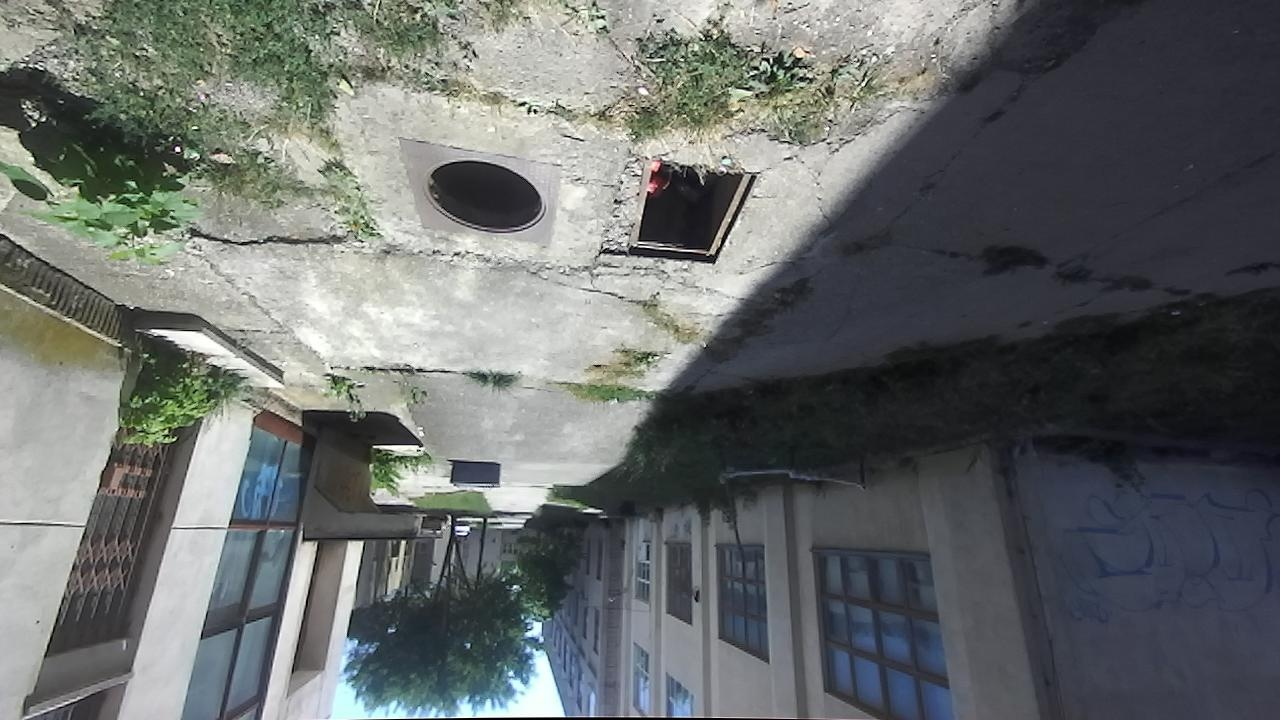drain: (604, 163, 765, 266), (423, 160, 544, 236)
